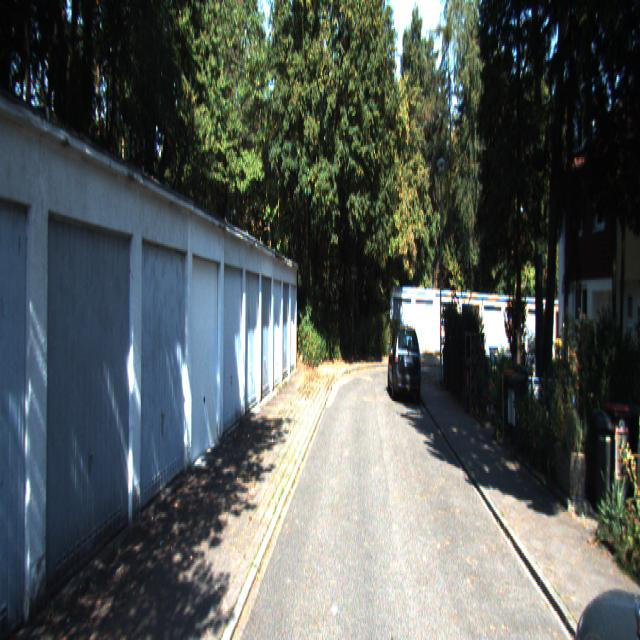Car: (388, 318, 422, 398)
